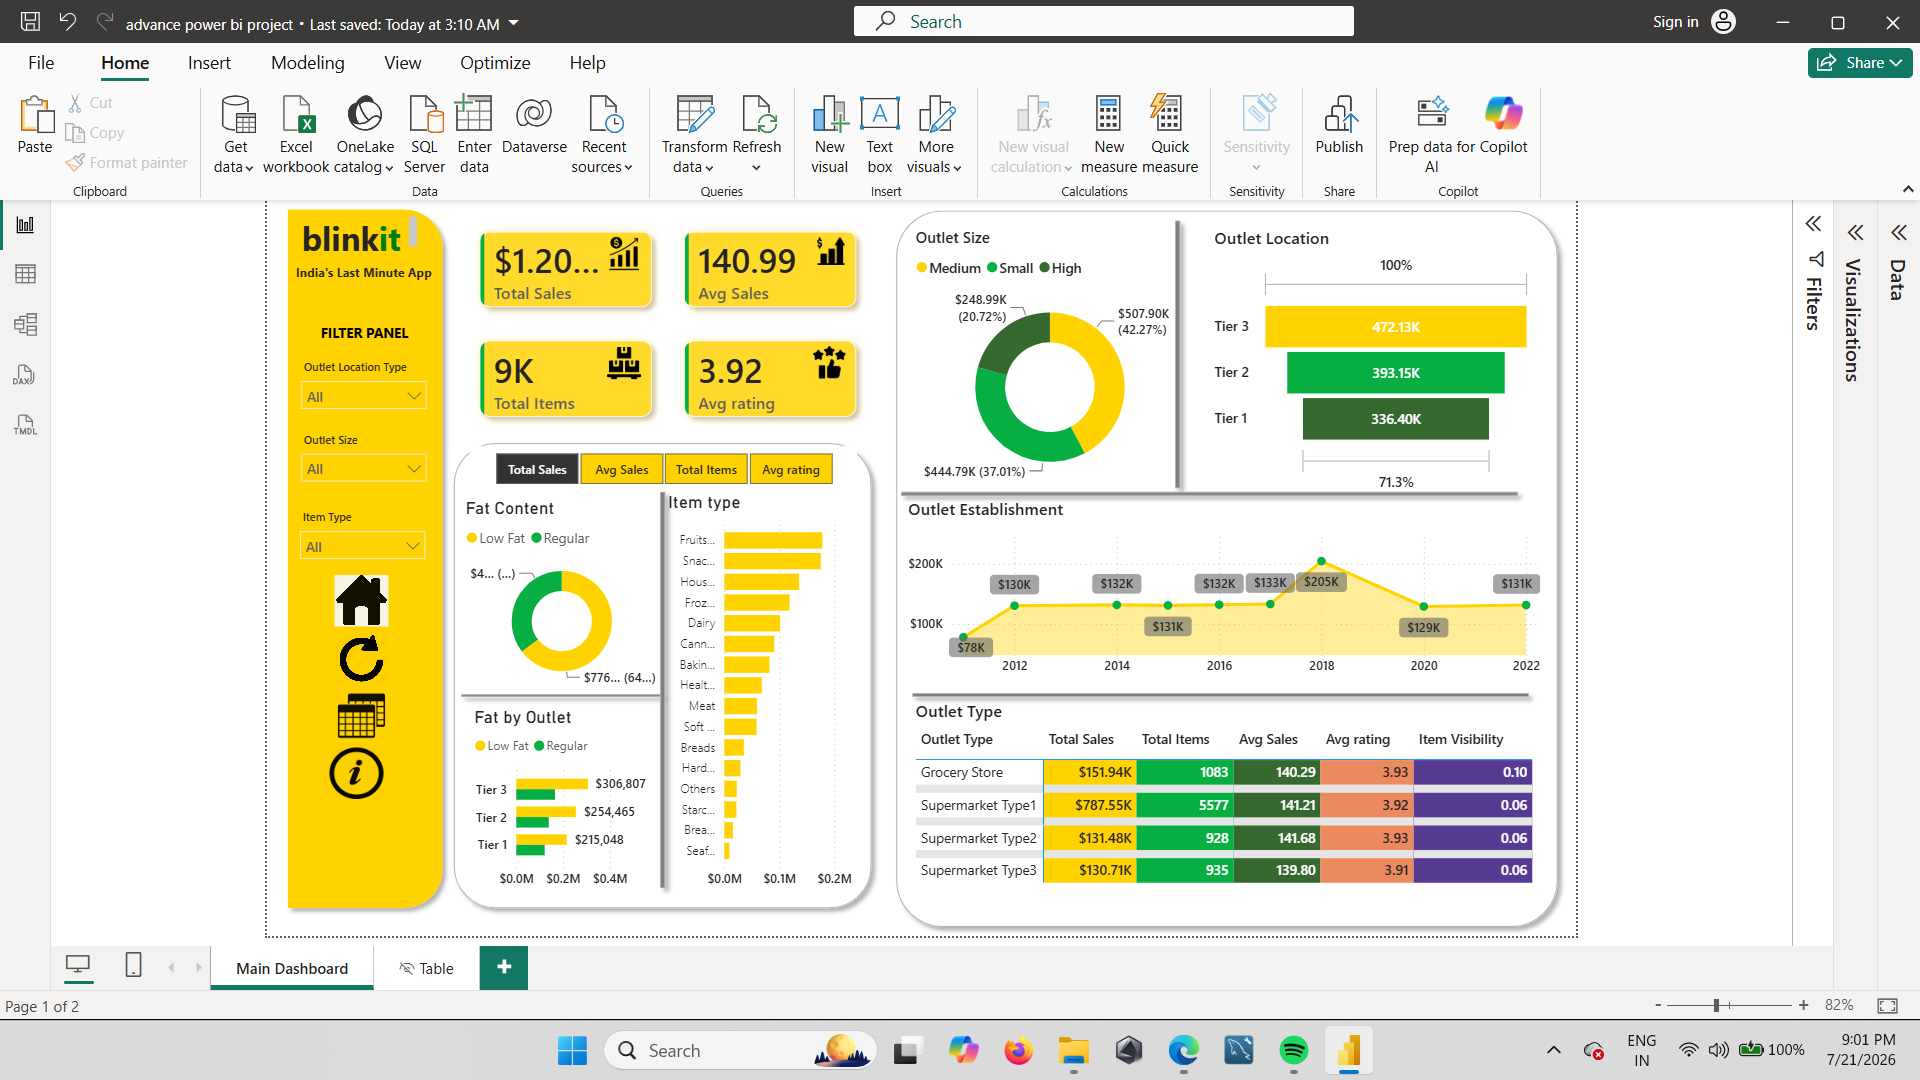

What the dashboard file says about the page in this screenshot:
{"tool":"powerbi","page":{"name":"Main Dashboard","canvas":[1280,720],"ordinal":0},"visuals":[{"type":"shape","box":[11,0,170,701.9],"z":0},{"type":"textbox","box":[22,11,129.6,45.2],"z":1000},{"type":"textbox","box":[15.9,56.3,157.7,28.1],"z":2000},{"type":"cardVisual","fields":{"Data":["BlinkIT Grocery Data.Total Sales","BlinkIT Grocery Data.Avg Sales","BlinkIT Grocery Data.Total Items","BlinkIT Grocery Data.Avg rating"]},"box":[179.8,1.2,426.8,240.9],"z":3000},{"type":"shape","box":[173.6,228.7,426.8,473.2],"z":4000},{"type":"slicer","fields":{"Values":["Parameter.Parameter"]},"box":[198.1,240.9,379.1,44],"z":5000},{"type":"donutChart","title":" Fat Content","fields":{"Y":["BlinkIT Grocery Data.Total Sales"],"Category":["BlinkIT Grocery Data.Item Fat Content"]},"box":[189.5,291,198.1,193.2],"z":6000},{"type":"clusteredBarChart","title":"Fat by Outlet ","fields":{"Y":["BlinkIT Grocery Data.Total Sales"],"Series":["BlinkIT Grocery Data.Item Fat Content"],"Category":["BlinkIT Grocery Data.Outlet Location Type"]},"box":[198.1,495.2,195.7,187.1],"z":7000},{"type":"barChart","title":"Item type","fields":{"Y":["BlinkIT Grocery Data.Total Sales"],"Category":["BlinkIT Grocery Data.Item Type"]},"box":[387.6,284.9,189.5,397.4],"z":8000},{"type":"shape","box":[181,474.5,215.2,20.8],"z":9000},{"type":"shape","box":[375.4,276.4,23.2,406],"z":10000},{"type":"shape","box":[606.5,1.2,665.2,719],"z":11000},{"type":"donutChart","title":"Outlet Size","fields":{"Category":["BlinkIT Grocery Data.Outlet Size"],"Y":["BlinkIT Grocery Data.Total Sales"]},"box":[629.8,25.7,272.7,265.4],"z":12000},{"type":"funnel","title":" Outlet Location ","fields":{"Category":["BlinkIT Grocery Data.Outlet Location Type"],"Y":["Sum(BlinkIT Grocery Data.Sales)"]},"box":[922,25.7,320.4,265.4],"z":13000},{"type":"lineChart","title":" Outlet Establishment ","fields":{"Y":["BlinkIT Grocery Data.Total Sales"],"Category":["BlinkIT Grocery Data.Outlet Establishment Year"]},"box":[622.4,291,628.5,183.4],"z":14000},{"type":"pivotTable","title":"Outlet Type","fields":{"Rows":["BlinkIT Grocery Data.Outlet Type"],"Values":["BlinkIT Grocery Data.Total Sales","BlinkIT Grocery Data.Total Items","BlinkIT Grocery Data.Avg Sales","BlinkIT Grocery Data.Avg rating","Avg(BlinkIT Grocery Data.Item Visibility)"]},"box":[629.8,487.9,613.9,194.4],"z":15000},{"type":"shape","box":[879.2,11,23.2,280],"z":16000},{"type":"shape","box":[622.4,473.2,621.2,22],"z":17000},{"type":"shape","box":[611.4,276.4,621.2,22],"z":18000},{"type":"slicer","fields":{"Values":["BlinkIT Grocery Data.Outlet Location Type"]},"box":[23.2,151.6,143.1,68.5],"z":19000},{"type":"slicer","fields":{"Values":["BlinkIT Grocery Data.Outlet Size"]},"box":[23.2,222.6,143.1,68.5],"z":20000},{"type":"slicer","fields":{"Values":["BlinkIT Grocery Data.Item Type"]},"box":[22,298.4,143.1,68.5],"z":21000},{"type":"textbox","box":[34.2,116.2,122.3,31.8],"z":22000},{"type":"actionButton","box":[66,366.8,52.6,50.1],"z":23000},{"type":"actionButton","box":[66,425.5,52.6,47.7],"z":24000},{"type":"actionButton","box":[66,479.4,52.6,50.1],"z":25000},{"type":"actionButton","box":[61.1,535.6,52.6,50.1],"z":26000}]}

Visuals, with their boxes on the page's 1280x720 design canvas (x1, y1, x2, y2). These are canvas units, not pixel positions in the 1920x1080 screenshot, which may show the page scaled, cropped or inside an application window:
shape: 11/0/181/702
textbox: 22/11/152/56
textbox: 16/56/174/84
cardVisual - BlinkIT Grocery Data.Total Sales x BlinkIT Grocery Data.Avg Sales: 180/1/607/242
shape: 174/229/600/702
slicer - Parameter.Parameter: 198/241/577/285
" Fat Content" donutChart: 190/291/388/484
"Fat by Outlet " clusteredBarChart: 198/495/394/682
"Item type" barChart: 388/285/577/682
shape: 181/474/396/495
shape: 375/276/399/682
shape: 606/1/1272/720
"Outlet Size" donutChart: 630/26/902/291
" Outlet Location " funnel: 922/26/1242/291
" Outlet Establishment " lineChart: 622/291/1251/474
"Outlet Type" pivotTable: 630/488/1244/682
shape: 879/11/902/291
shape: 622/473/1244/495
shape: 611/276/1233/298
slicer - BlinkIT Grocery Data.Outlet Location Type: 23/152/166/220
slicer - BlinkIT Grocery Data.Outlet Size: 23/223/166/291
slicer - BlinkIT Grocery Data.Item Type: 22/298/165/367
textbox: 34/116/156/148
actionButton: 66/367/119/417
actionButton: 66/426/119/473
actionButton: 66/479/119/530
actionButton: 61/536/114/586
